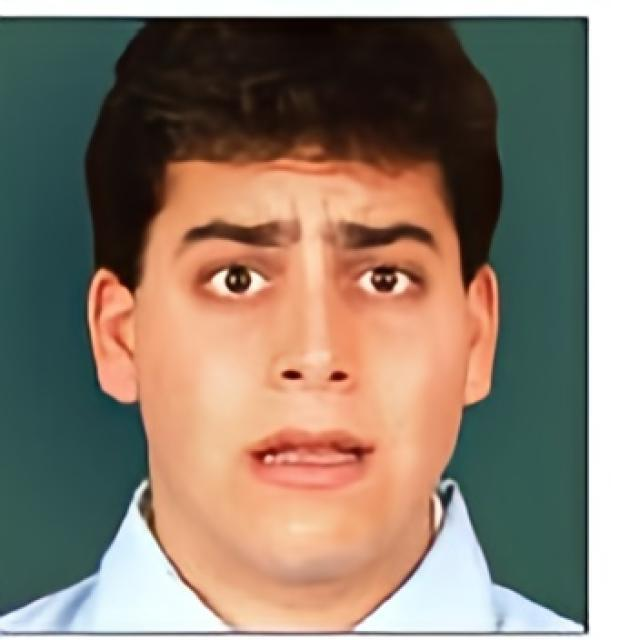fear: (138, 132, 466, 578)
